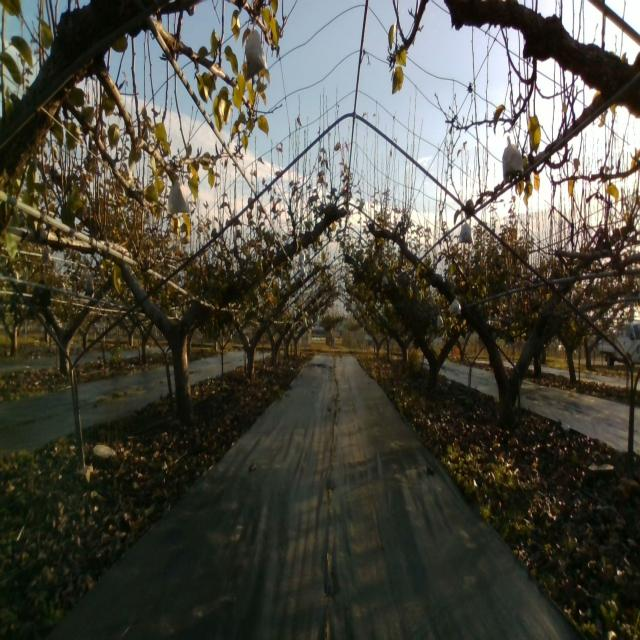pearbags: (244, 28, 267, 80), (502, 135, 524, 176), (166, 180, 190, 215), (458, 220, 474, 247), (449, 294, 462, 316)
